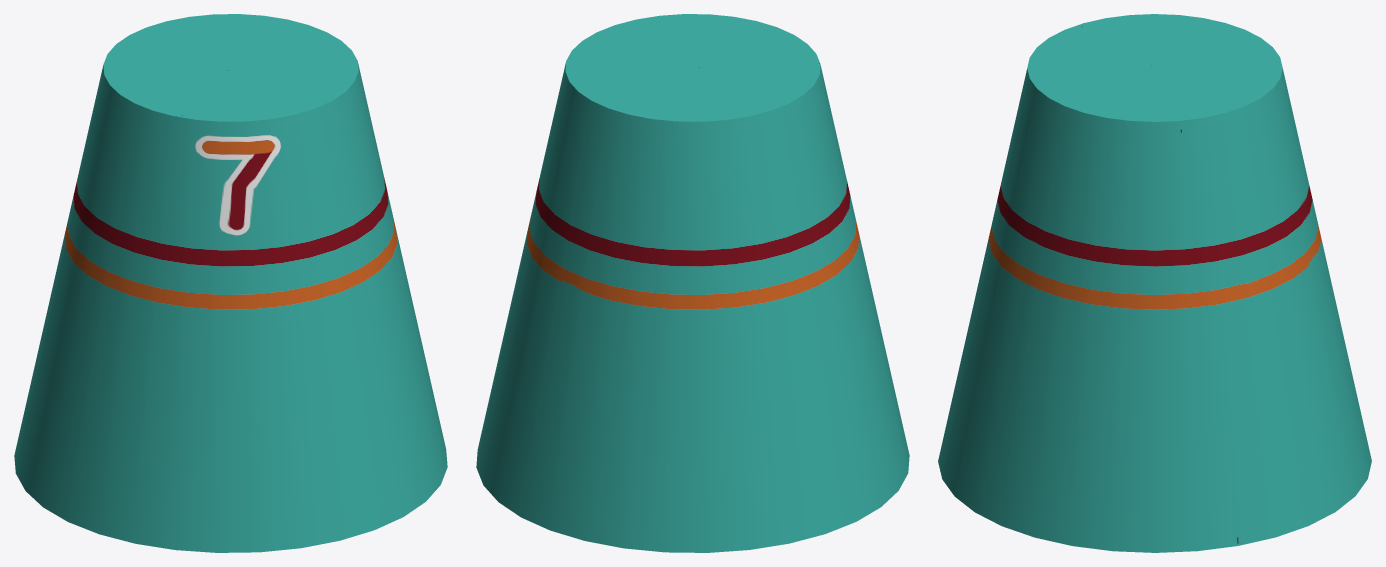
Rendered from body_1.obj.
3 renders of one model, left to right at view 1: azimuth 30°, elevation 25°; view 2: azimuth 150°, elevation 25°; view 3: azimuth 270°, elevation 25°, orthographic.
Visible parts, largest first — view 1: Body_Sphere.005; view 2: Body_Sphere.005; view 3: Body_Sphere.005.
Boxes of the visible parts, x1,y1,x2,y2 form: Body_Sphere.005: (14,14,447,552); Body_Sphere.005: (476,14,909,552); Body_Sphere.005: (938,14,1371,552).
Size of the model in its own units: 2 by 2 by 2.
